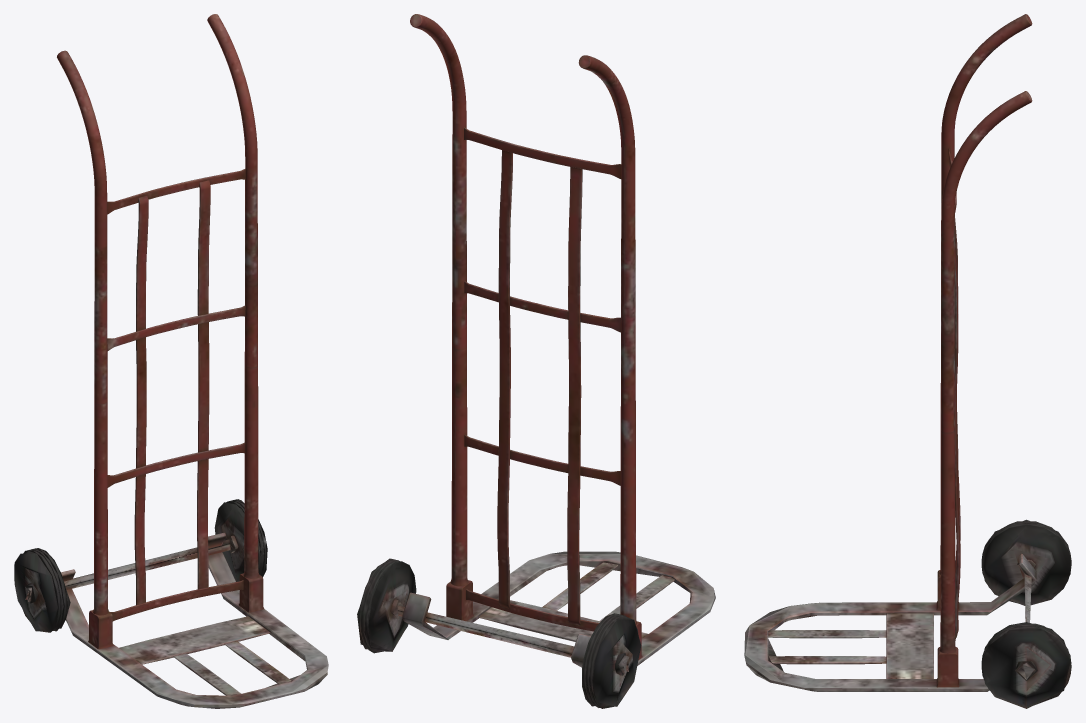
File: hand_truck.glb
3 renders of one model, left to right at view 1: azimuth 30°, elevation 25°; view 2: azimuth 150°, elevation 25°; view 3: azimuth 270°, elevation 25°, orthographic. The views are drawn at different scales.
Visible parts, largest first — view 1: hand_truck; view 2: hand_truck; view 3: hand_truck.
Part boxes in pixels (box(x1,y1,x2,y2)): hand_truck: box(14, 14, 328, 708); hand_truck: box(357, 14, 715, 708); hand_truck: box(744, 14, 1071, 708).
Size of the model in its own units: 0.5861 by 1.4 by 0.6921.
Materials: 1 (1 with a texture image).
